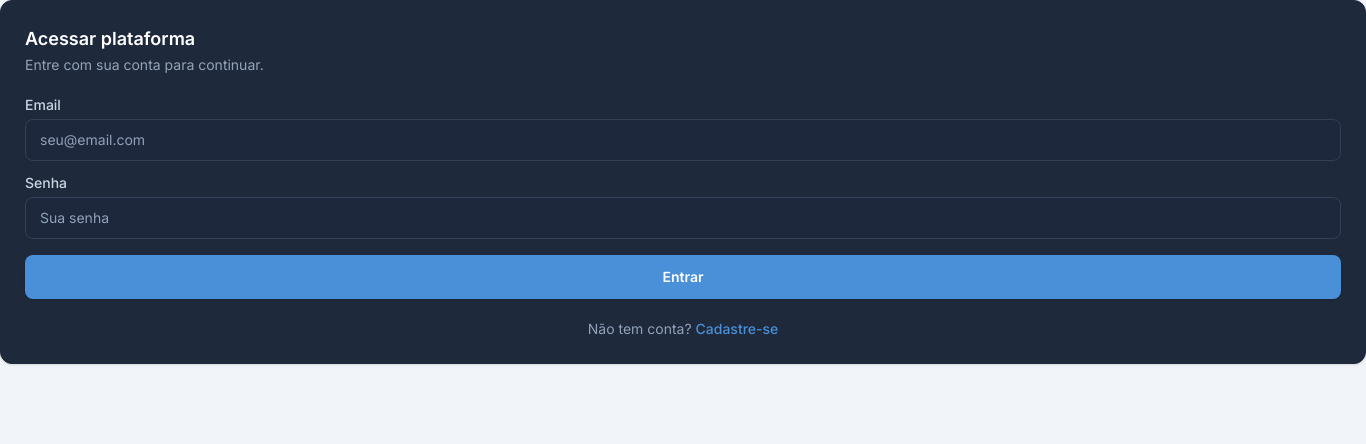
Test case: Login — mensagem de erro (#19 CA1, V12) › credenciais incorretas (401) mostram "E-mail ou senha inválidos."
This screenshot has width=1366, height=444.
Type "joao@foca.ai" into the field labelled "Email" at (683, 140), box [25,119,1341,161]
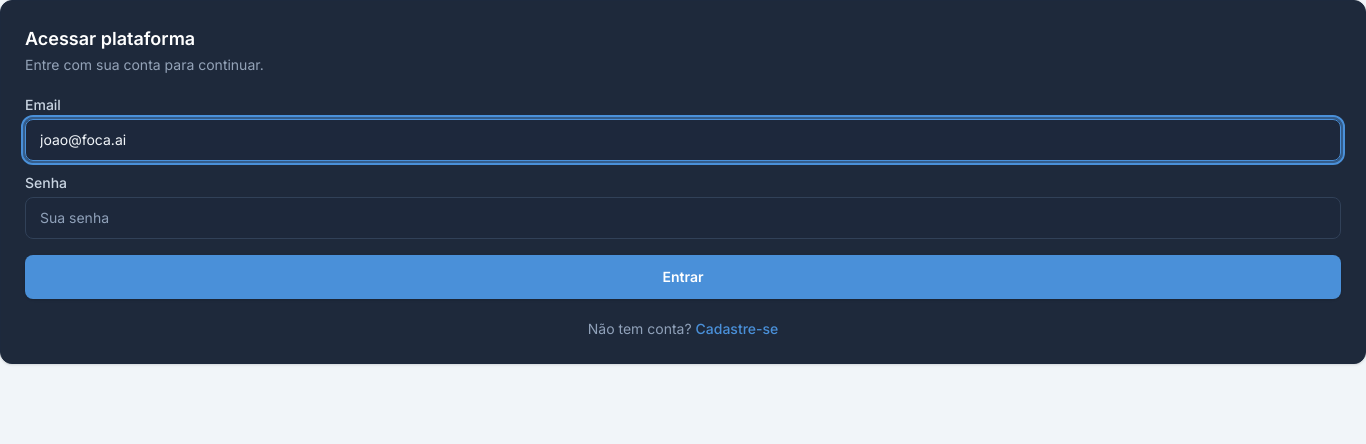
Type "errada" into the password field labelled "Senha" at (683, 218), box [25,197,1341,239]
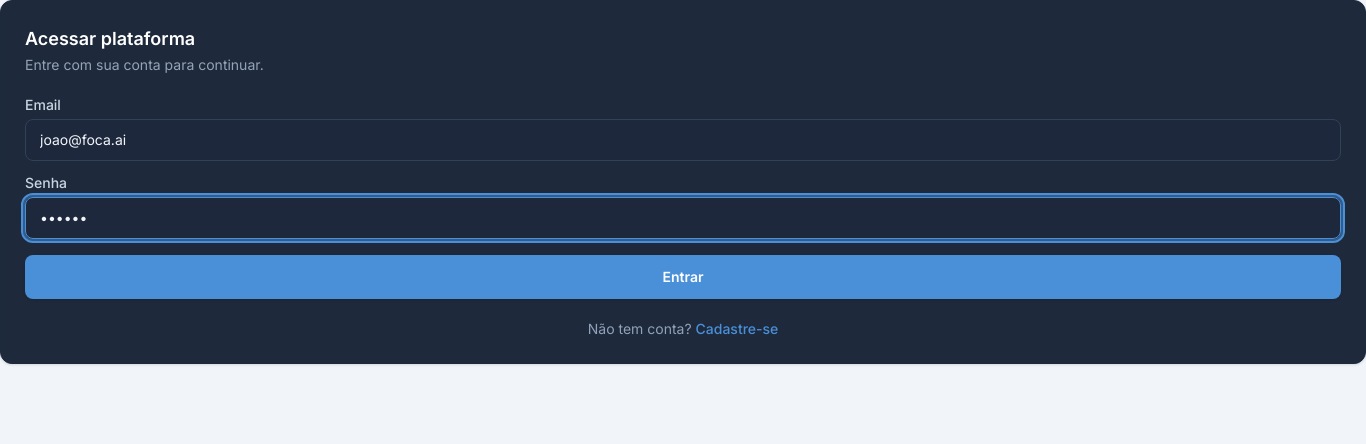
Click the button "Entrar" at (683, 277), box [25,255,1341,299]
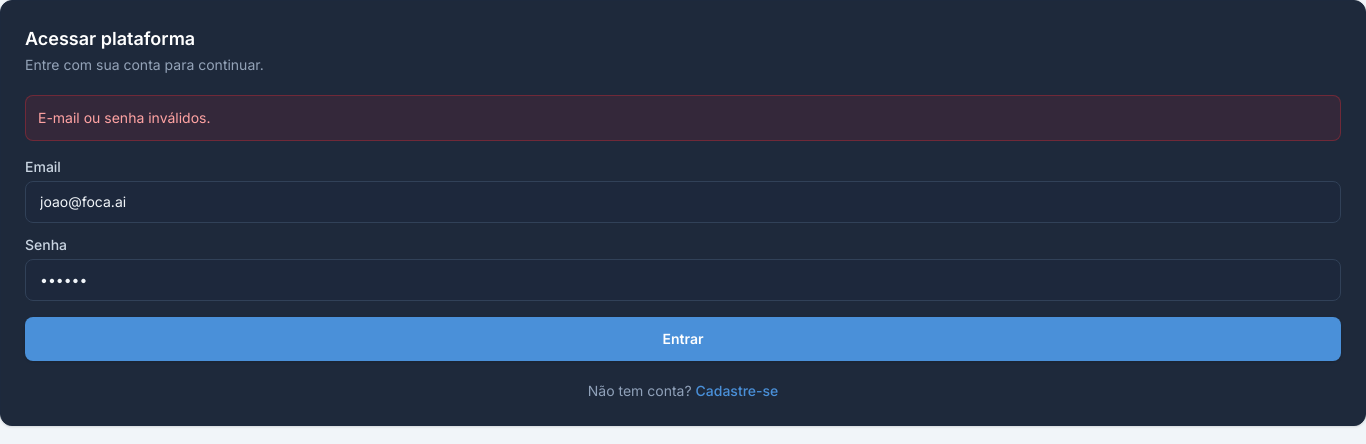
expect the text "E-mail ou senha inválidos." is shown: met, box [25,95,1341,141]
